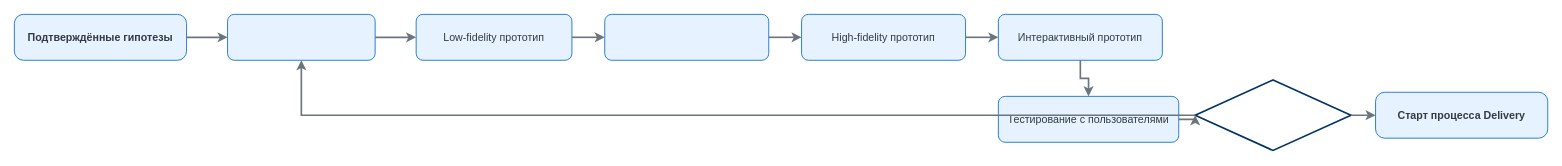
Some shapes in this 1562 by 166 pixel diagram are drawn without their labels. The box of each missing label's shape, as (x1, y1, x2, y2) in pixels:
Внутреннее тестирование: (604, 14, 769, 60)
Концепция решения: (227, 14, 375, 60)
Нужны доработки?: (1194, 79, 1351, 151)
